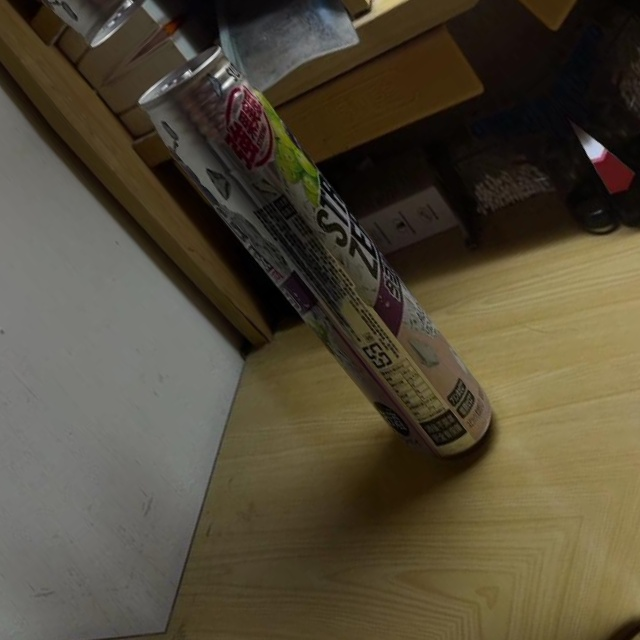Liquor: (121, 31, 527, 483)
